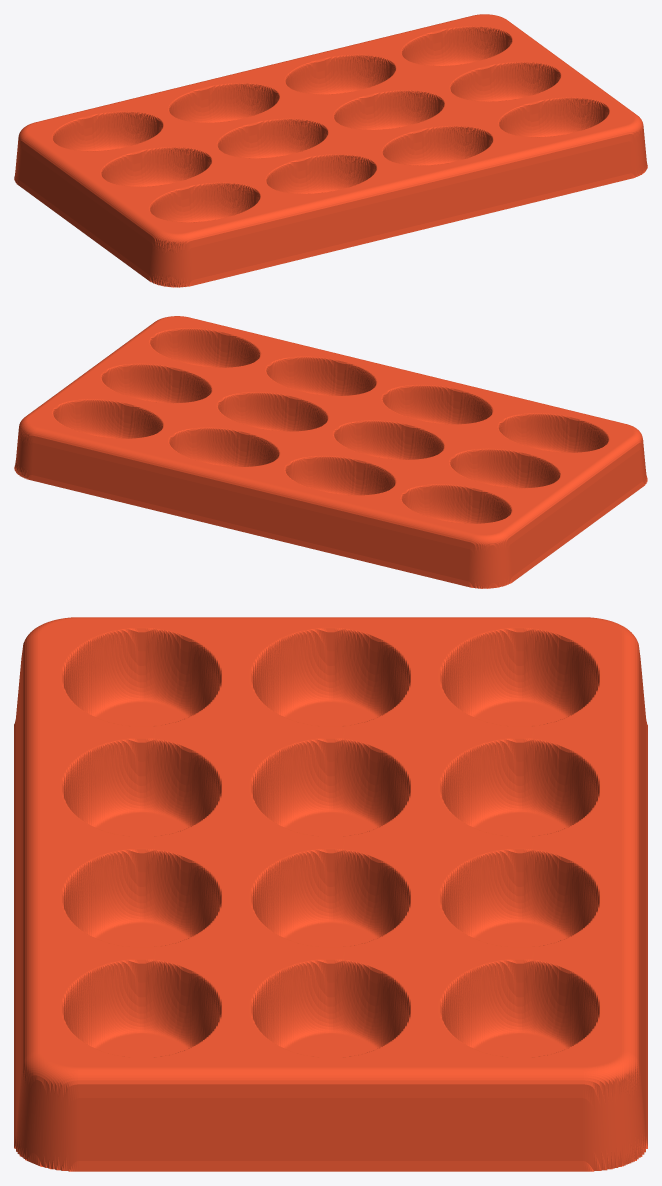
The model's file is mold.glb.
3 views of the same model, one above another, from view 1: azimuth 30°, elevation 25°; view 2: azimuth 150°, elevation 25°; view 3: azimuth 270°, elevation 25° (orthographic). The views are drawn at different scales.
Parts seen in each view (by area): view 1: geometry_0; view 2: geometry_0; view 3: geometry_0.
Boxes of the visible parts, <box> form: geometry_0: <box>14,14,647,287</box>; geometry_0: <box>14,316,647,588</box>; geometry_0: <box>14,617,647,1171</box>.
Size of the model in its own units: 0.1558 by 0.0145 by 0.0888.
